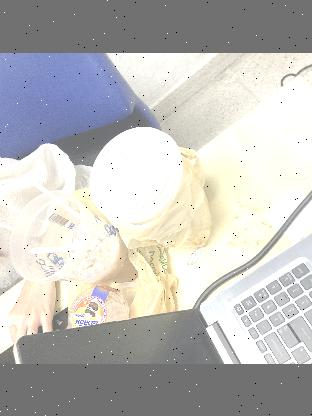Others: (71, 186, 177, 326), (6, 188, 136, 284), (109, 146, 214, 252), (85, 124, 186, 223), (66, 283, 132, 329), (262, 186, 312, 244), (224, 196, 276, 250), (183, 238, 209, 268)
